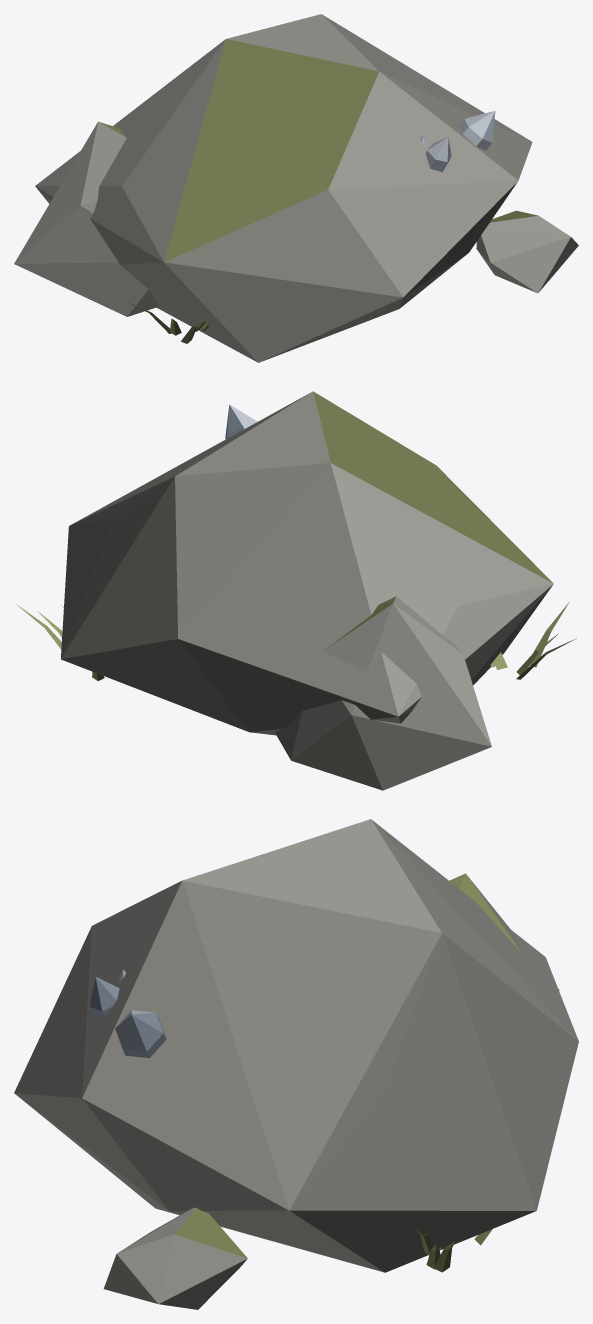
The model's file is rock_temperate_0.glb.
3 views of the same model, one above another, from view 1: azimuth 30°, elevation 25°; view 2: azimuth 150°, elevation 25°; view 3: azimuth 270°, elevation 25° (orthographic). The views are drawn at different scales.
Parts seen in each view (by area): view 1: Body; view 2: Body; view 3: Body.
Boxes of the visible parts, box(x1,y1,x2,y2) form: Body: box(14, 14, 578, 362); Body: box(16, 391, 576, 790); Body: box(14, 819, 578, 1309).
Size of the model in its own units: 3.8 by 1.86 by 2.93.
